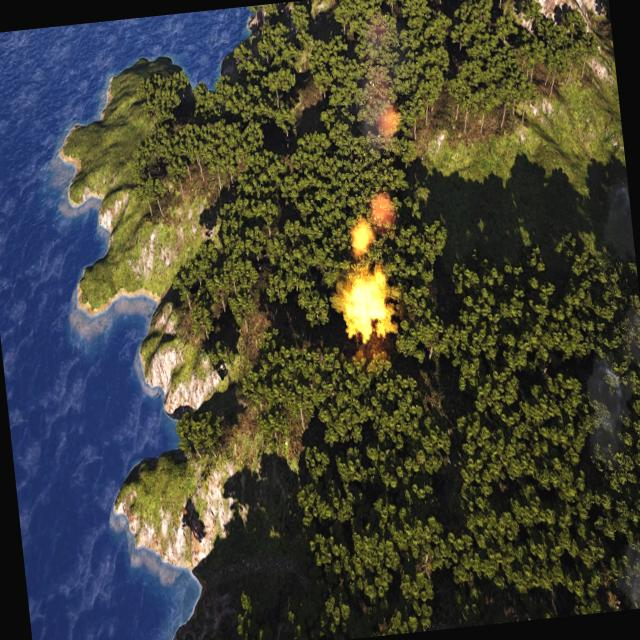fire: (337, 268, 395, 346), (349, 222, 375, 257)
smoke: (350, 2, 402, 150), (577, 354, 635, 460), (614, 541, 640, 610), (369, 182, 397, 238)
